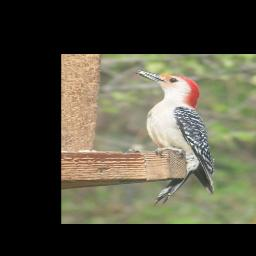Woodpecker: (133, 69, 214, 206)
